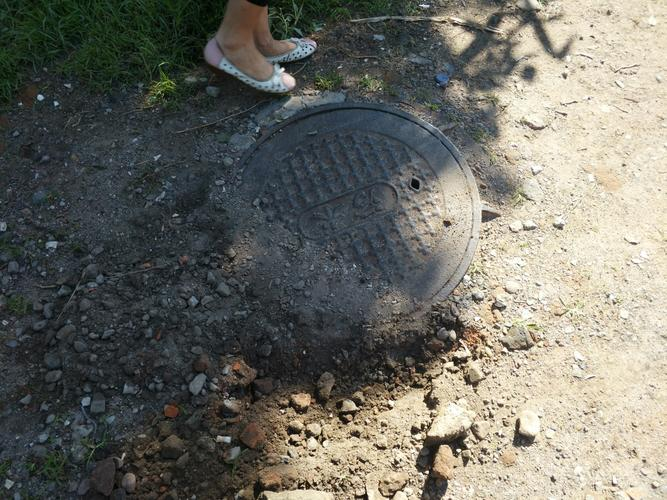circle: (163, 95, 547, 369)
